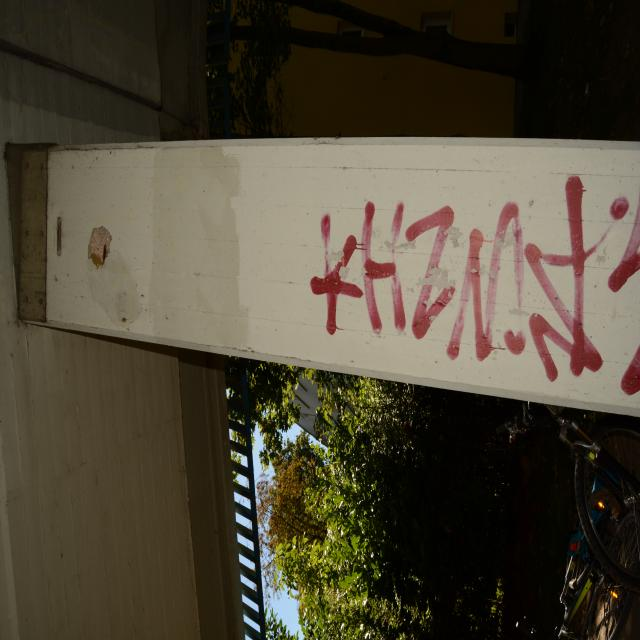corrosion: (251, 152, 266, 162), (212, 182, 216, 192)
